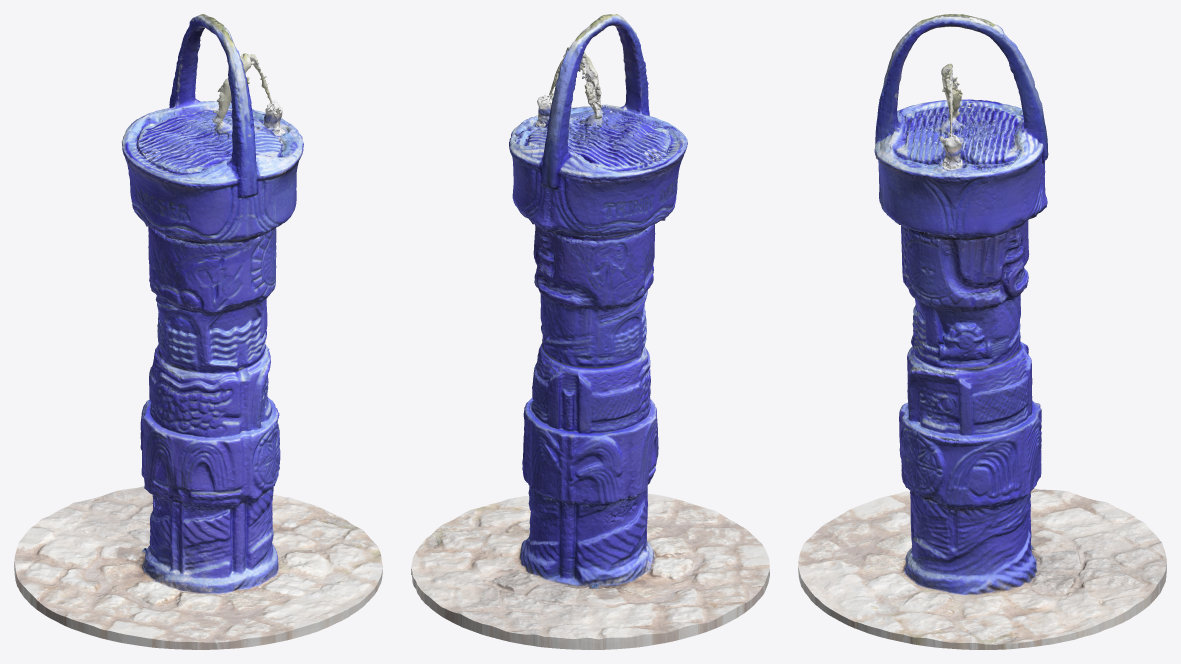
3 renders of one model, left to right at view 1: azimuth 30°, elevation 25°; view 2: azimuth 150°, elevation 25°; view 3: azimuth 270°, elevation 25°, orthographic. The views are drawn at different scales.
Visible parts, largest first — view 1: 2k.50k; view 2: 2k.50k; view 3: 2k.50k.
Boxes of the visible parts, x1,y1,x2,y2 form: 2k.50k: (14,14,382,649); 2k.50k: (411,14,769,649); 2k.50k: (798,14,1166,649).
Size of the model in its own units: 2.41 by 4.04 by 2.41.
1 material, 1 textured.
